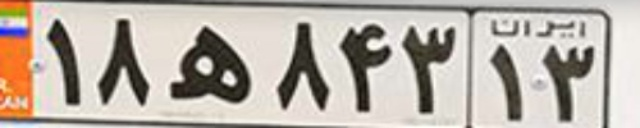1: (45, 16, 87, 105), (488, 43, 525, 122)
3: (398, 23, 458, 113), (538, 42, 595, 122)
4: (339, 20, 390, 112)
8: (275, 19, 335, 109), (97, 16, 151, 106)
he: (165, 23, 253, 106)
